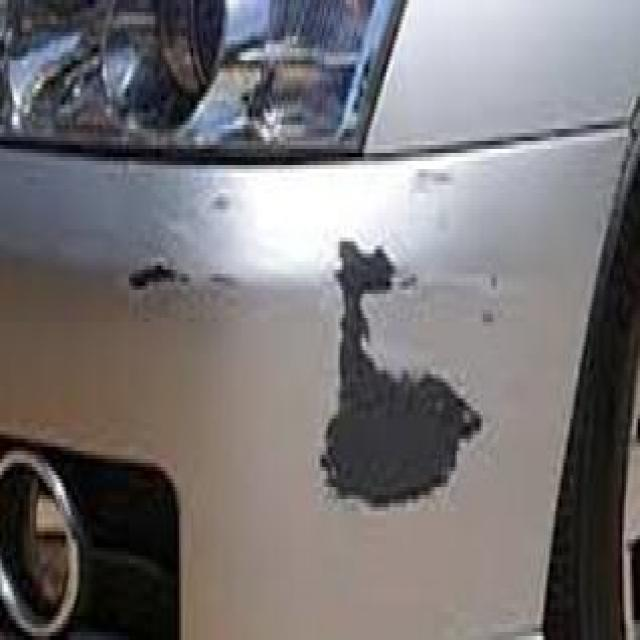scratch: (316, 195, 493, 513), (106, 219, 204, 308)
